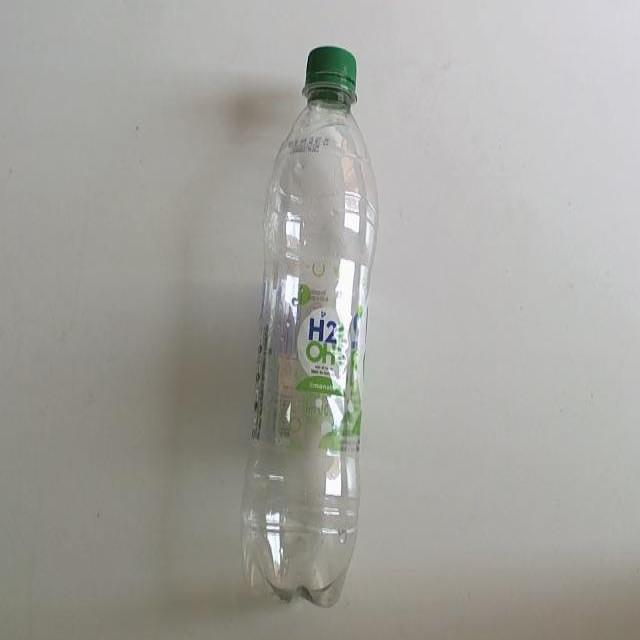non-defect: (239, 44, 379, 606)
